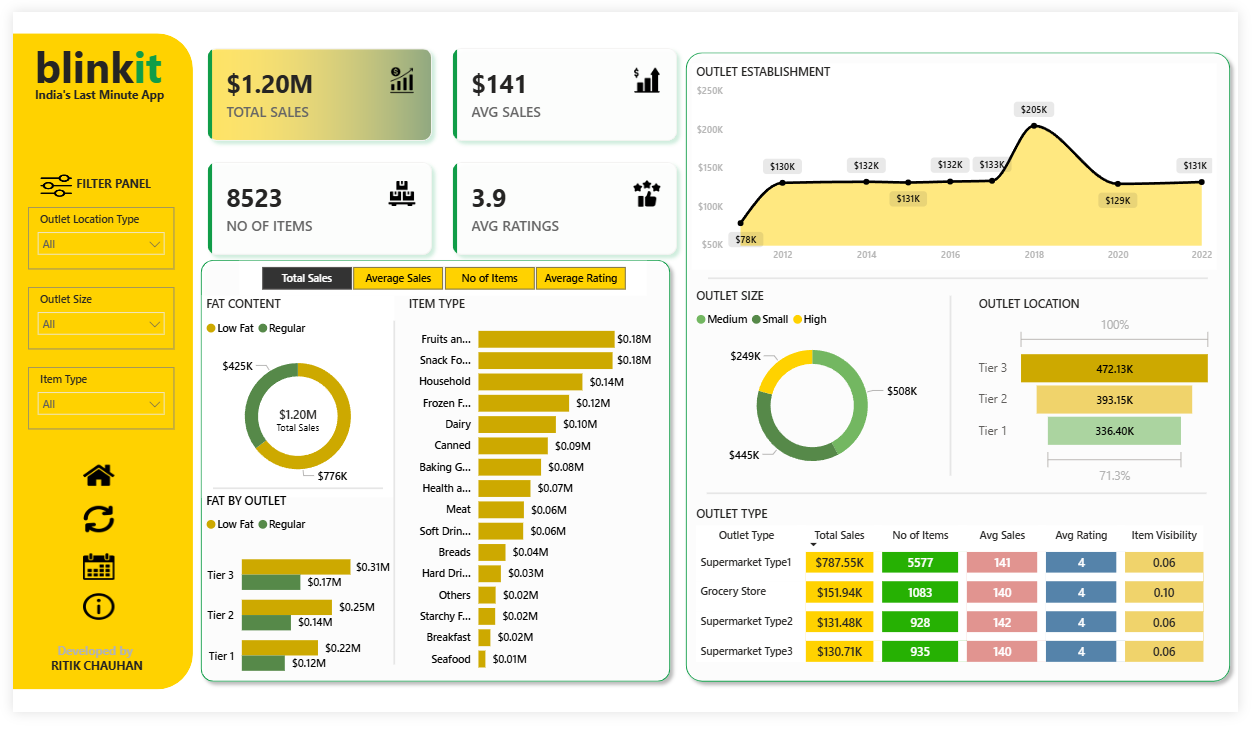

Layout of this report page (visuals, bound fields, positions):
{"tool":"powerbi","page":{"name":"Page 1","canvas":[1400,800],"ordinal":0},"visuals":[{"type":"shape","box":[0,24.3,205.7,750],"z":0},{"type":"textbox","box":[20,24.3,164.3,85.7],"z":1000},{"type":"textbox","box":[20,80,164.3,85.7],"z":2000},{"type":"cardVisual","fields":{"Data":["BlinkIT Grocery Data.Total Sales","BlinkIT Grocery Data.Average Sales","BlinkIT Grocery Data.No of Items","BlinkIT Grocery Data.Average Rating"]},"box":[205.7,24.3,570,270],"z":3000},{"type":"shape","box":[205.7,274.3,554.3,500],"z":4000},{"type":"donutChart","title":"FAT CONTENT","fields":{"Y":["BlinkIT Grocery Data.Total Sales"],"Category":["BlinkIT Grocery Data.Item Fat Content"]},"box":[215.7,324.3,220,230],"z":5000},{"type":"slicer","fields":{"Values":["Metrics.Metrics"]},"box":[258.6,284.3,465.7,40],"z":6000},{"type":"cardVisual","fields":{"Data":["BlinkIT Grocery Data.Total Sales"]},"box":[258.6,431.4,134.3,70],"z":7000},{"type":"clusteredBarChart","title":"FAT BY OUTLET","fields":{"Y":["BlinkIT Grocery Data.Total Sales"],"Category":["BlinkIT Grocery Data.Outlet Location Type"],"Series":["BlinkIT Grocery Data.Item Fat Content"]},"box":[215.7,548.6,220,230],"z":8000},{"type":"shape","box":[228.6,524.3,194.3,40],"z":9000},{"type":"shape","box":[408.6,352.9,54.3,392.9],"z":10000},{"type":"clusteredBarChart","title":"ITEM TYPE","fields":{"Y":["BlinkIT Grocery Data.Total Sales"],"Category":["BlinkIT Grocery Data.Item Type"]},"box":[447.1,324.3,287.1,440],"z":11000},{"type":"shape","box":[760,37.1,640,737.1],"z":12000},{"type":"lineChart","title":"OUTLET ESTABLISHMENT","fields":{"Category":["BlinkIT Grocery Data.Outlet Establishment Year"],"Y":["BlinkIT Grocery Data.Total Sales"]},"box":[775.7,58.6,600,235.7],"z":13000},{"type":"donutChart","title":"OUTLET SIZE","fields":{"Y":["BlinkIT Grocery Data.Total Sales"],"Category":["BlinkIT Grocery Data.Outlet Size"]},"box":[775.7,314.3,275.7,225.7],"z":14000},{"type":"shape","box":[794.3,284.3,571.4,40],"z":15000},{"type":"funnel","title":"OUTLET LOCATION","fields":{"Y":["Sum(BlinkIT Grocery Data.Sales)"],"Category":["BlinkIT Grocery Data.Outlet Location Type"]},"box":[1098.6,324.3,277.1,220],"z":16000},{"type":"shape","box":[1044.3,324.3,54.3,205.7],"z":17000},{"type":"shape","box":[792.9,530,571.4,40],"z":18000},{"type":"pivotTable","title":"OUTLET TYPE","fields":{"Rows":["BlinkIT Grocery Data.Outlet Type"],"Values":["BlinkIT Grocery Data.Total Sales","BlinkIT Grocery Data.No of Items","BlinkIT Grocery Data.Average Sales","BlinkIT Grocery Data.Average Rating","Avg(BlinkIT Grocery Data.Item Visibility)"]},"box":[775.7,564.3,600,198.6],"z":19000},{"type":"slicer","fields":{"Values":["BlinkIT Grocery Data.Outlet Location Type"]},"box":[17.1,222.9,167.1,71.4],"z":20000},{"type":"slicer","fields":{"Values":["BlinkIT Grocery Data.Outlet Size"]},"box":[17.1,314.3,167.1,71.4],"z":21000},{"type":"slicer","fields":{"Values":["BlinkIT Grocery Data.Item Type"]},"box":[17.1,405.7,167.1,71.4],"z":22000},{"type":"actionButton","box":[80,514.3,35.7,30],"z":23000},{"type":"actionButton","box":[31.4,185.7,35.7,25.7],"z":24000},{"type":"actionButton","box":[80,618.6,35.7,30],"z":25000},{"type":"actionButton","box":[80,664.3,35.7,30],"z":26000},{"type":"actionButton","box":[80,564.3,35.7,30],"z":27000},{"type":"textbox","box":[67.1,181.4,95.7,34.3],"z":28000},{"type":"textbox","box":[28.6,715.7,134.3,61.4],"z":28001}]}

Visuals, with their boxes on the page's 1400x800 design canvas (x1, y1, x2, y2). These are canvas units, not pixel positions in the 1256x744 screenshot, which may show the page scaled, cropped or inside an application window:
shape: {"x1": 0, "y1": 24, "x2": 206, "y2": 774}
textbox: {"x1": 20, "y1": 24, "x2": 184, "y2": 110}
textbox: {"x1": 20, "y1": 80, "x2": 184, "y2": 166}
cardVisual - BlinkIT Grocery Data.Total Sales x BlinkIT Grocery Data.Average Sales: {"x1": 206, "y1": 24, "x2": 776, "y2": 294}
shape: {"x1": 206, "y1": 274, "x2": 760, "y2": 774}
"FAT CONTENT" donutChart: {"x1": 216, "y1": 324, "x2": 436, "y2": 554}
slicer - Metrics.Metrics: {"x1": 259, "y1": 284, "x2": 724, "y2": 324}
cardVisual - BlinkIT Grocery Data.Total Sales: {"x1": 259, "y1": 431, "x2": 393, "y2": 501}
"FAT BY OUTLET" clusteredBarChart: {"x1": 216, "y1": 549, "x2": 436, "y2": 779}
shape: {"x1": 229, "y1": 524, "x2": 423, "y2": 564}
shape: {"x1": 409, "y1": 353, "x2": 463, "y2": 746}
"ITEM TYPE" clusteredBarChart: {"x1": 447, "y1": 324, "x2": 734, "y2": 764}
shape: {"x1": 760, "y1": 37, "x2": 1400, "y2": 774}
"OUTLET ESTABLISHMENT" lineChart: {"x1": 776, "y1": 59, "x2": 1376, "y2": 294}
"OUTLET SIZE" donutChart: {"x1": 776, "y1": 314, "x2": 1051, "y2": 540}
shape: {"x1": 794, "y1": 284, "x2": 1366, "y2": 324}
"OUTLET LOCATION" funnel: {"x1": 1099, "y1": 324, "x2": 1376, "y2": 544}
shape: {"x1": 1044, "y1": 324, "x2": 1099, "y2": 530}
shape: {"x1": 793, "y1": 530, "x2": 1364, "y2": 570}
"OUTLET TYPE" pivotTable: {"x1": 776, "y1": 564, "x2": 1376, "y2": 763}
slicer - BlinkIT Grocery Data.Outlet Location Type: {"x1": 17, "y1": 223, "x2": 184, "y2": 294}
slicer - BlinkIT Grocery Data.Outlet Size: {"x1": 17, "y1": 314, "x2": 184, "y2": 386}
slicer - BlinkIT Grocery Data.Item Type: {"x1": 17, "y1": 406, "x2": 184, "y2": 477}
actionButton: {"x1": 80, "y1": 514, "x2": 116, "y2": 544}
actionButton: {"x1": 31, "y1": 186, "x2": 67, "y2": 211}
actionButton: {"x1": 80, "y1": 619, "x2": 116, "y2": 649}
actionButton: {"x1": 80, "y1": 664, "x2": 116, "y2": 694}
actionButton: {"x1": 80, "y1": 564, "x2": 116, "y2": 594}
textbox: {"x1": 67, "y1": 181, "x2": 163, "y2": 216}
textbox: {"x1": 29, "y1": 716, "x2": 163, "y2": 777}
